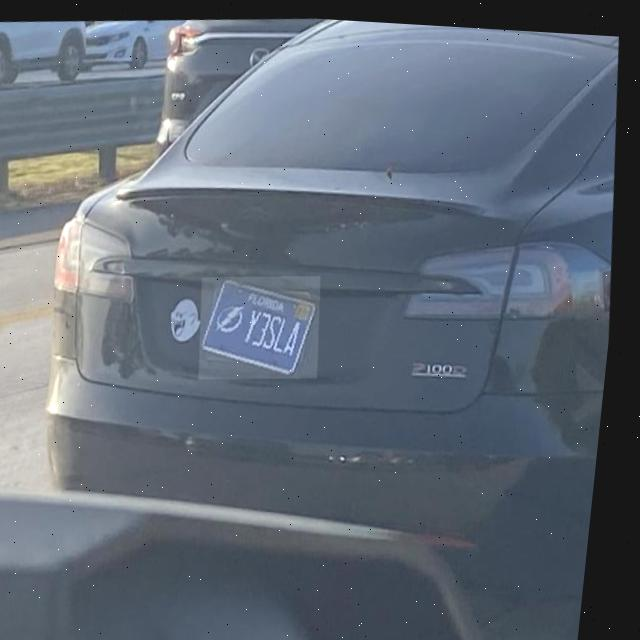LicensePlate: (207, 273, 325, 374)
